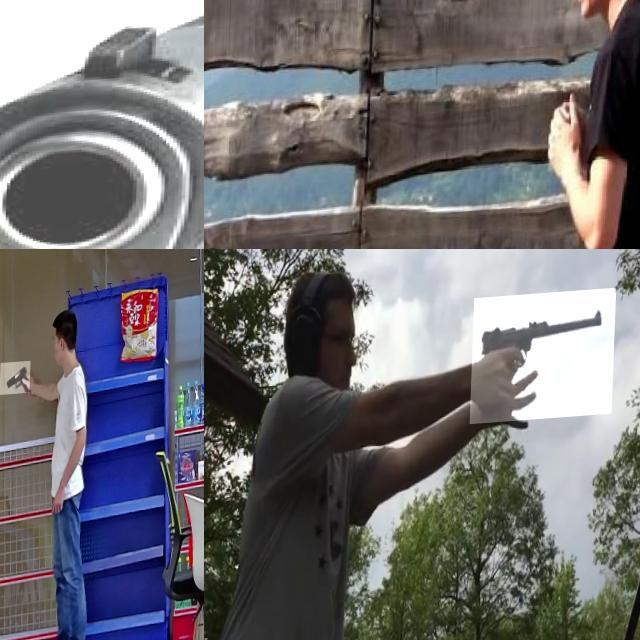gun-knife-thesis - v11 Yolov5 augmented: (0, 0, 204, 249), (472, 296, 618, 431), (1, 366, 32, 401)
